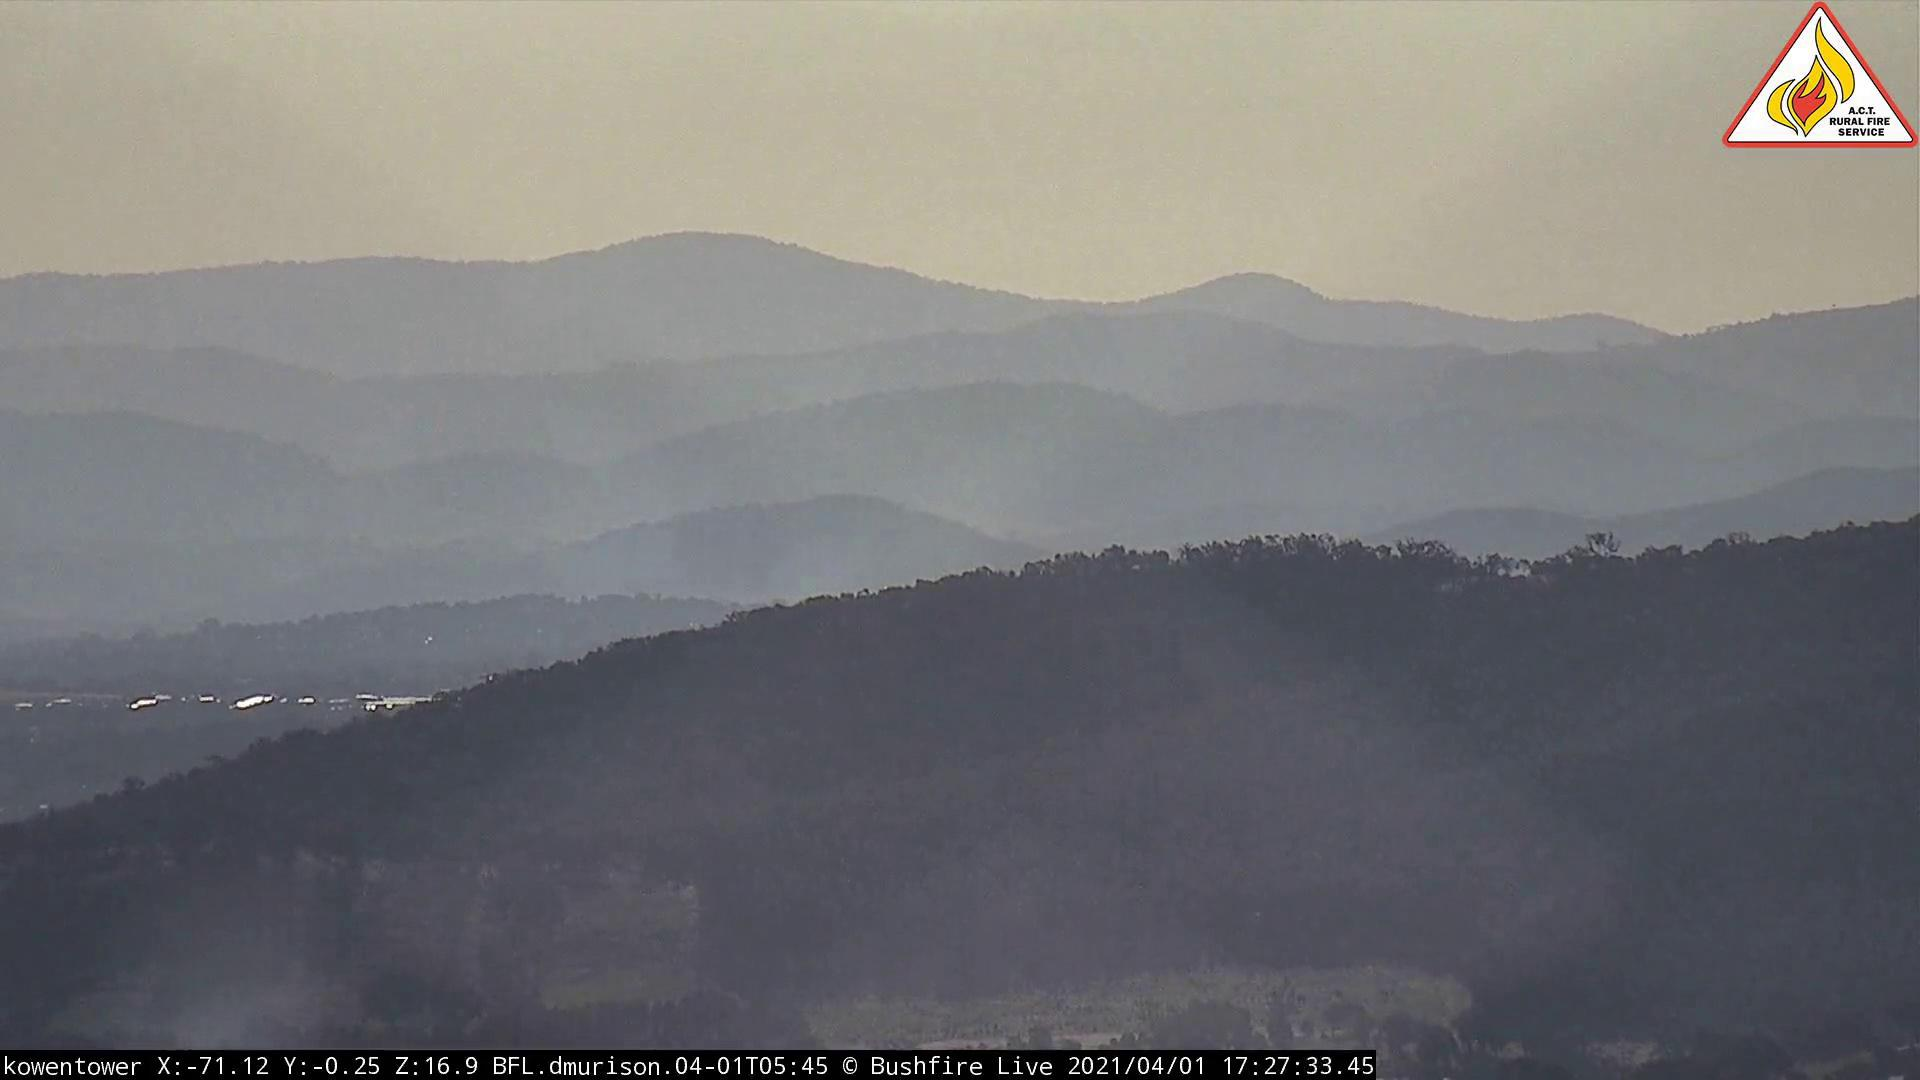Smoke: (582, 404, 1069, 609)
